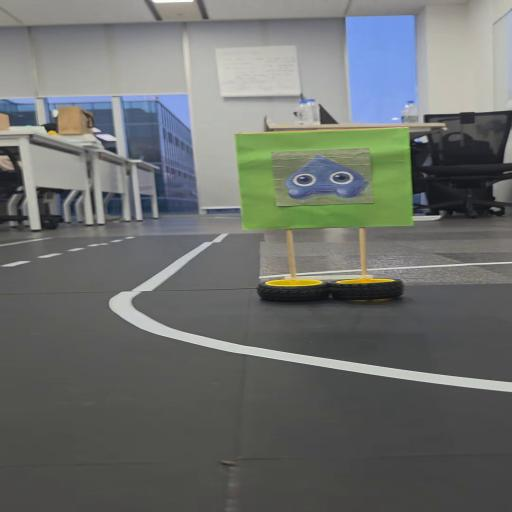Sign_B: (231, 126, 433, 320)
